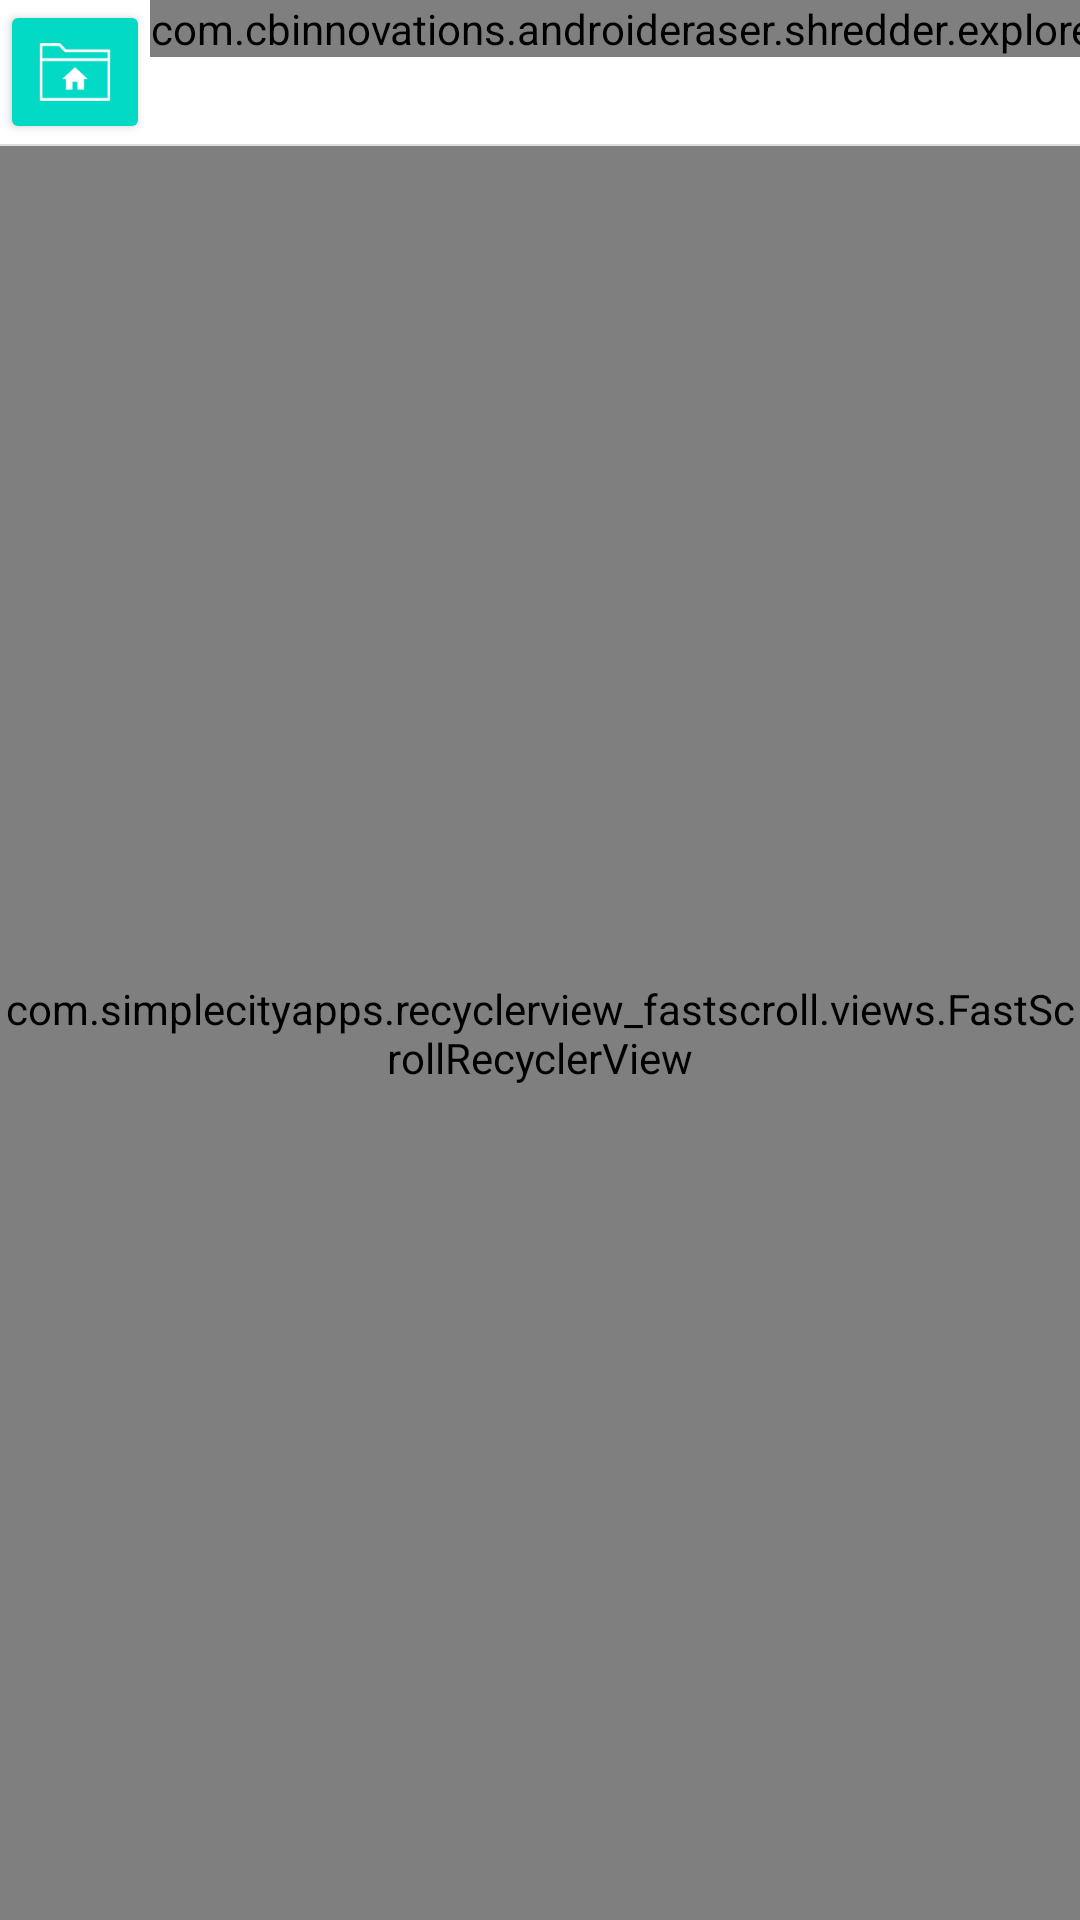

Screen size 1080x1920. Icon name, then its center in pixels as point (x, y):
home: point (74, 72)
